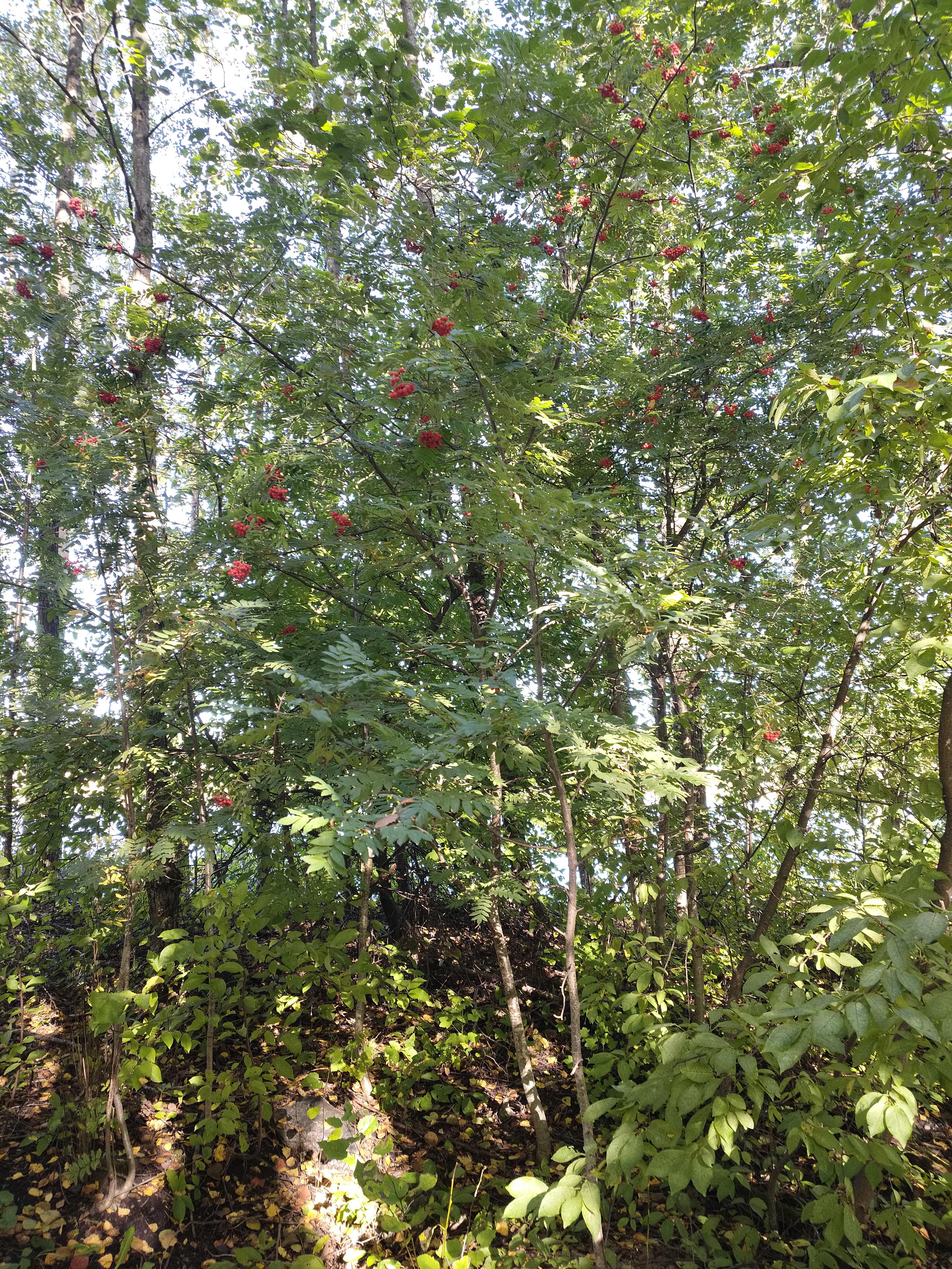Rowan: (217, 0, 951, 1266)
